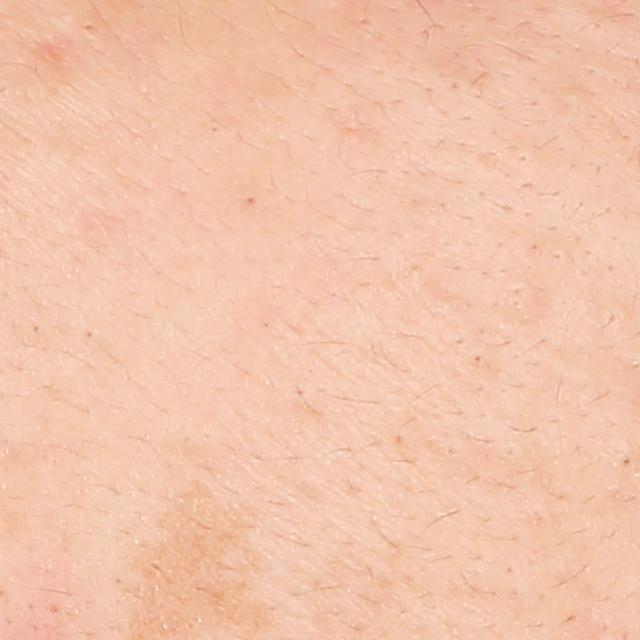comedo: (613, 448, 640, 470), (465, 348, 486, 374), (240, 187, 261, 213)
